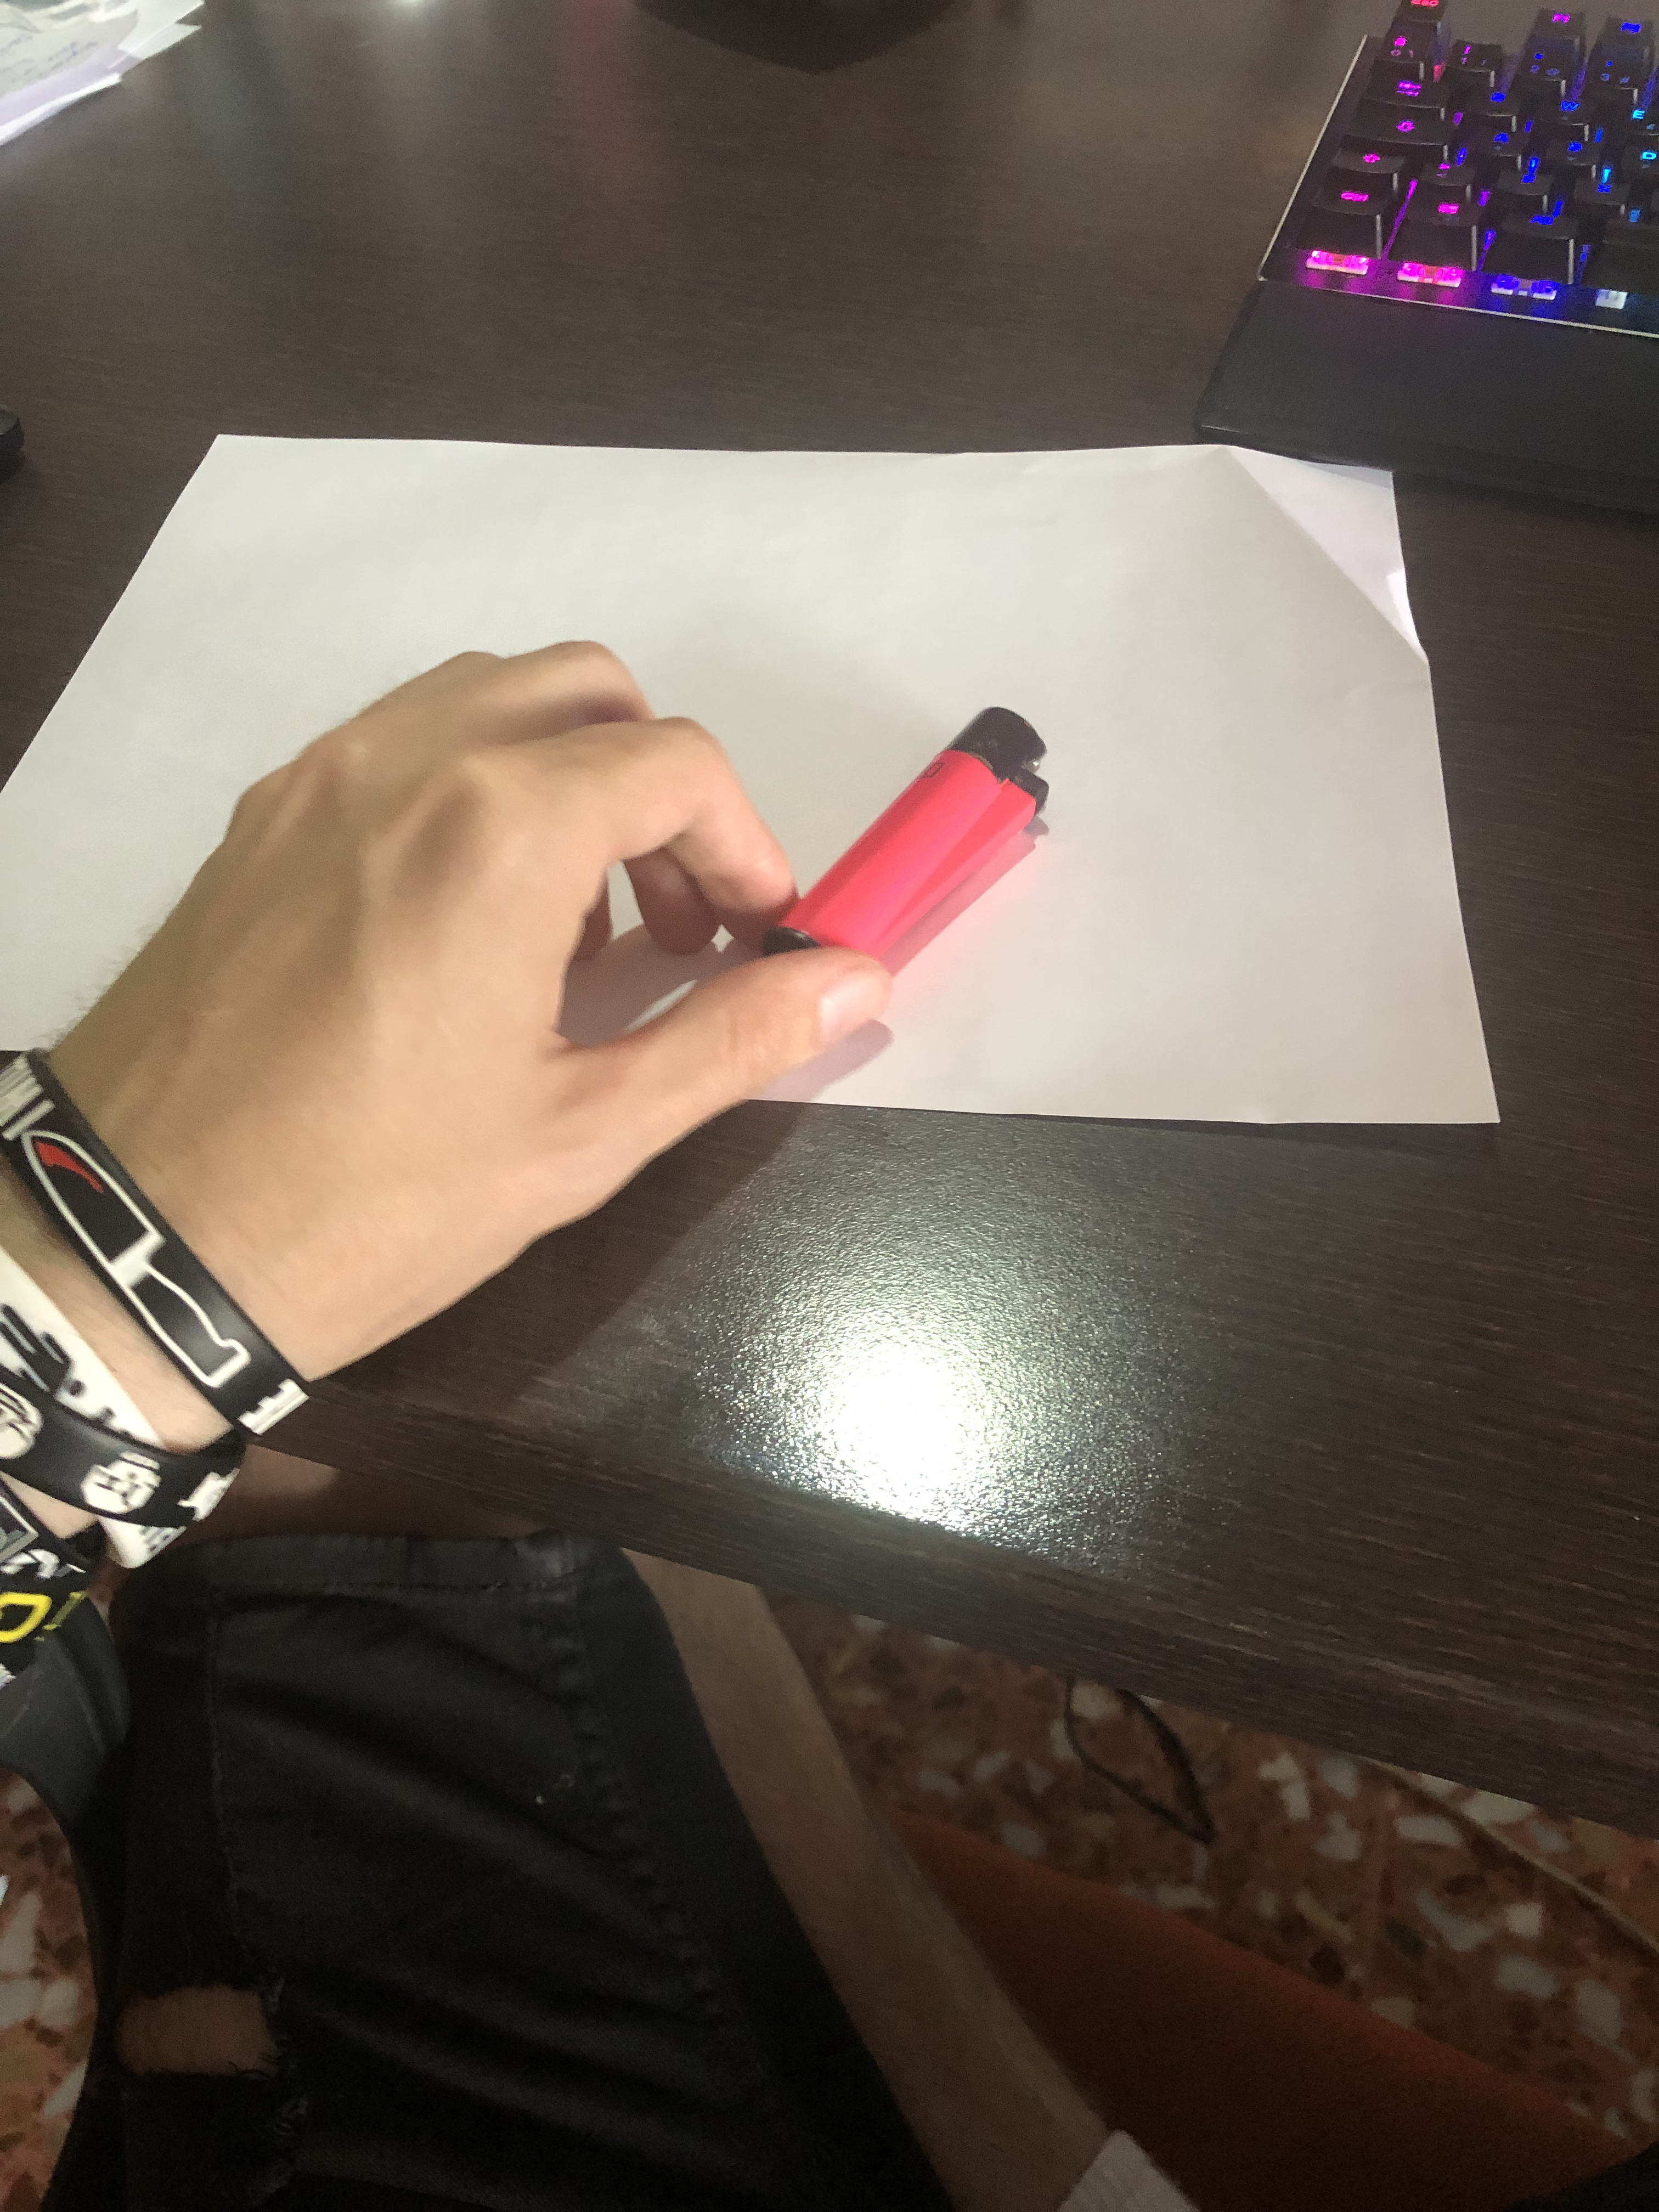Mechero: (770, 693, 1079, 965)
